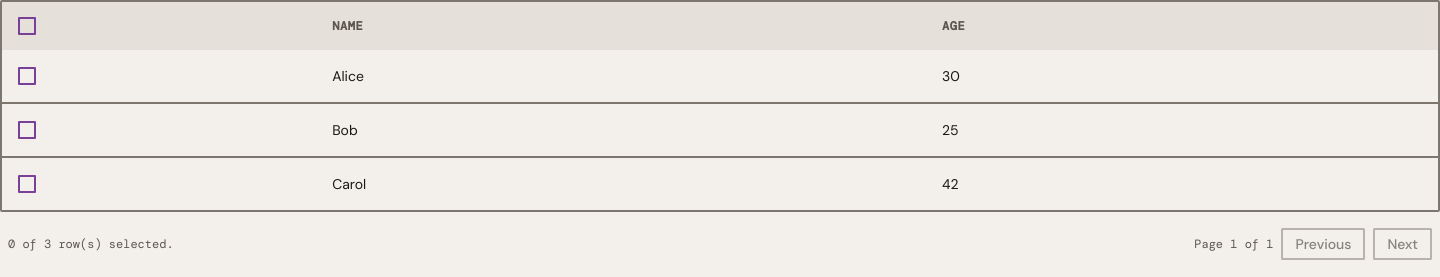
Scenario: DataTable row selection via createSelectColumn › clicking select-all selects every row
Click the checkbox named "Select all" at {"x": 27, "y": 26}, box [18,17,36,35]
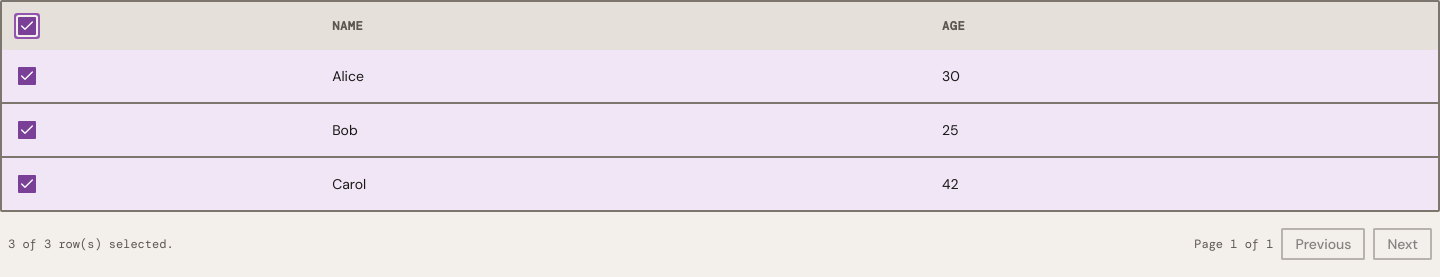
Expected: the text "3 of 3 row(s) selected." is shown, [8,236,174,252]
